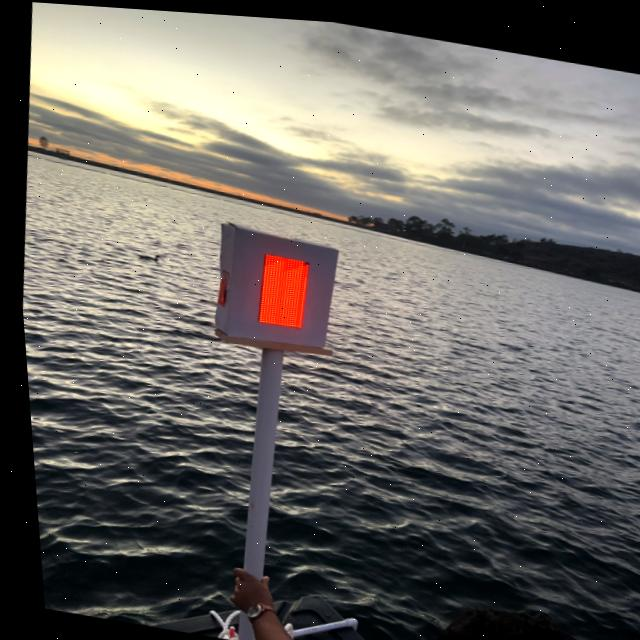led: (224, 226, 326, 345)
